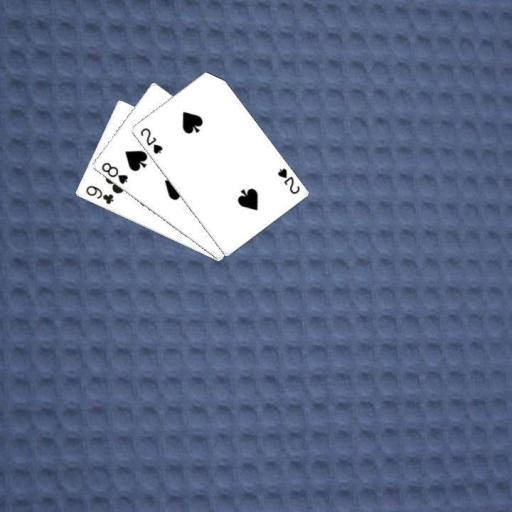card-corner: (98, 159, 130, 186), (137, 124, 164, 156), (274, 165, 301, 196), (83, 182, 115, 206)
